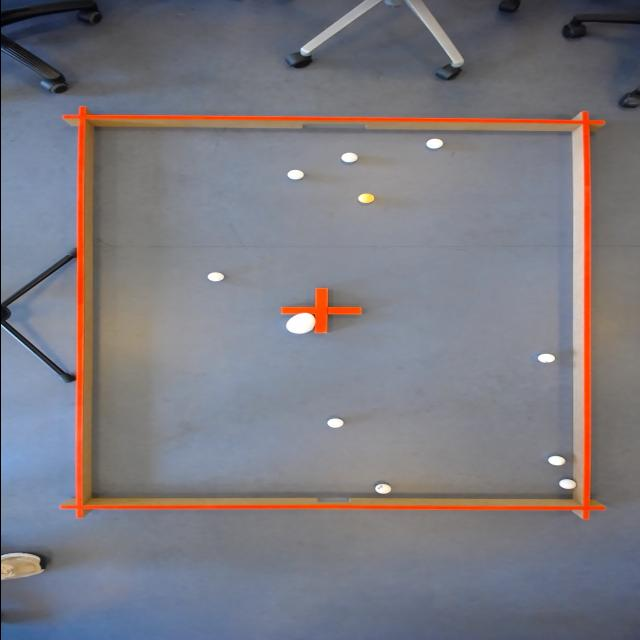cross: (278, 285, 363, 334)
egg: (282, 312, 318, 334)
orange_ball: (354, 192, 378, 204)
white_ball: (323, 416, 348, 430), (282, 168, 306, 182), (370, 482, 394, 496), (534, 352, 558, 365), (554, 478, 576, 491), (337, 151, 360, 163), (202, 270, 225, 282), (421, 137, 444, 149), (544, 456, 566, 466)
